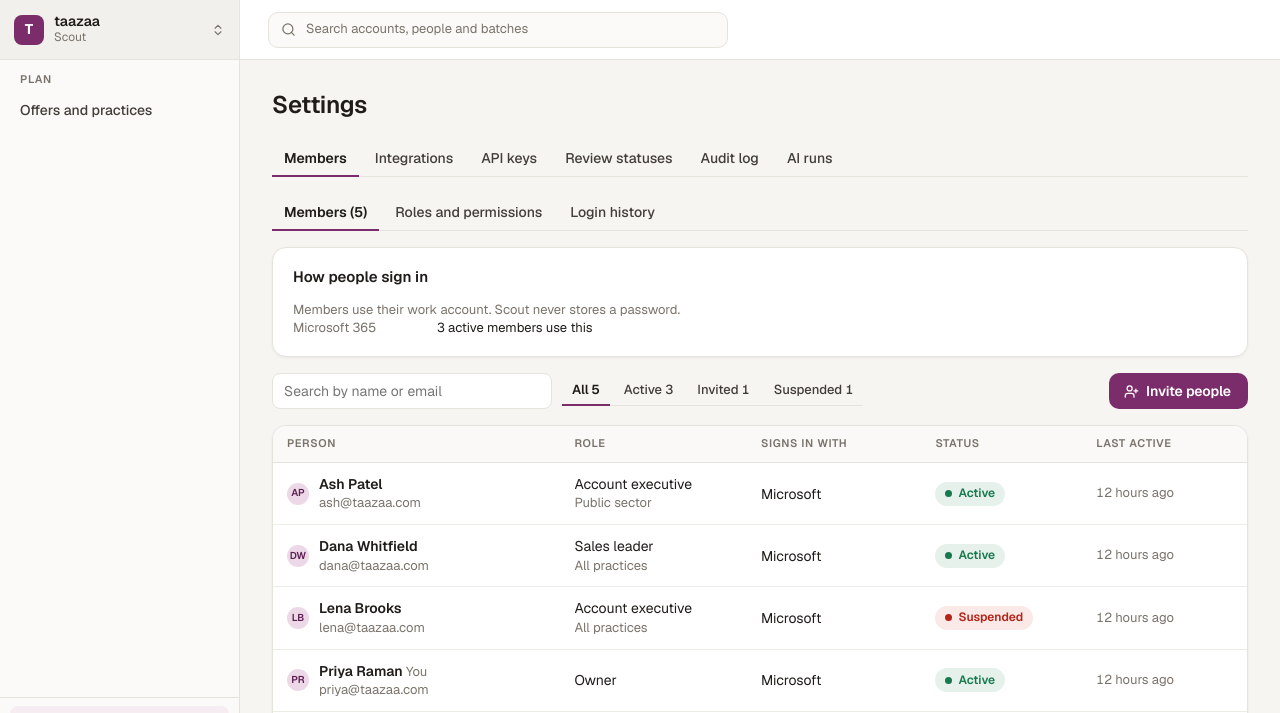
Test: invite dialog › keeps refused addresses in the form with their reasons
This screenshot has width=1280, height=713.
Click the button "Invite people" at (1179, 391), box [1109, 373, 1248, 409]
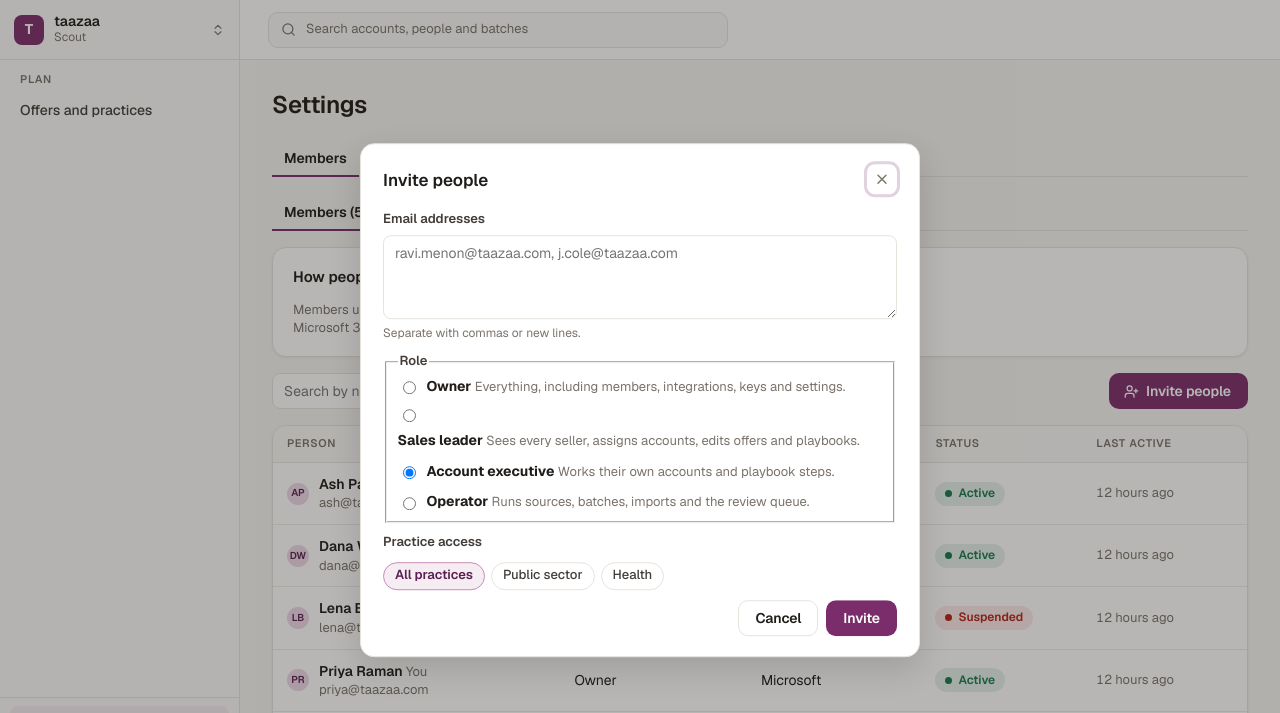
Type "dana@taazaa.com" into the text box labelled "Email addresses" at (640, 277), box [383, 235, 897, 319]
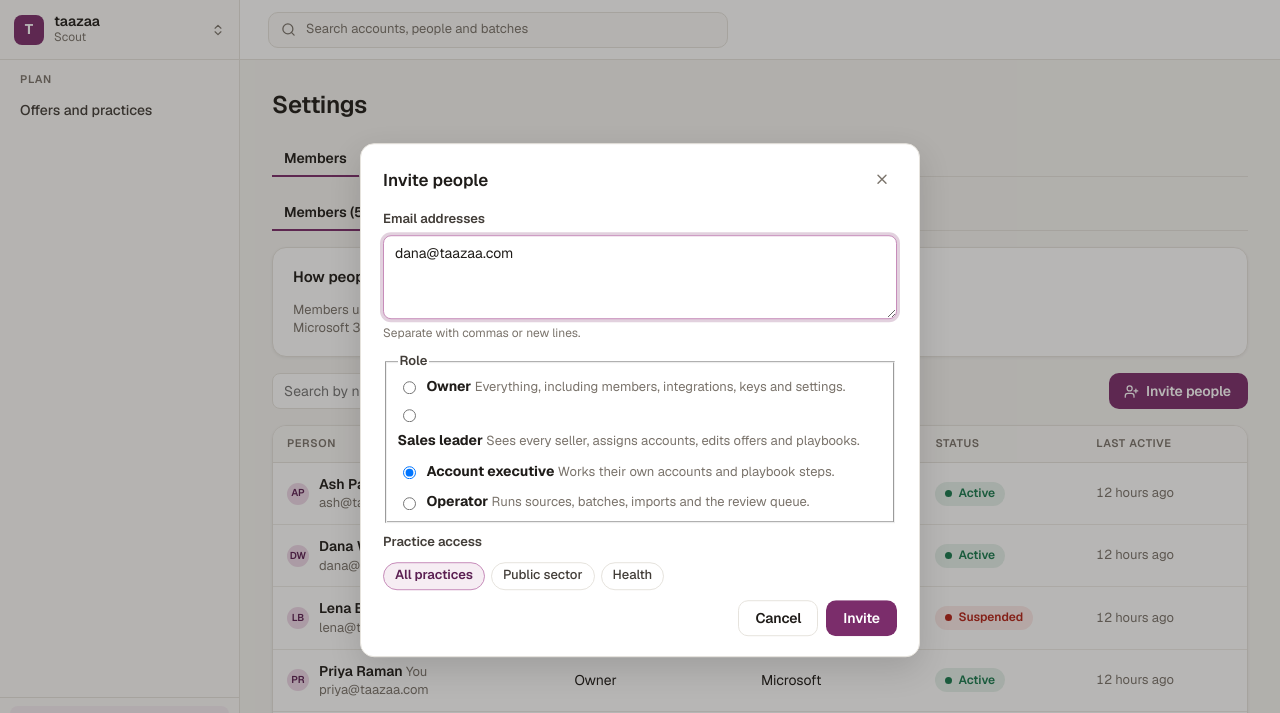
Click the button "Invite" at (862, 618), box [826, 600, 897, 636]
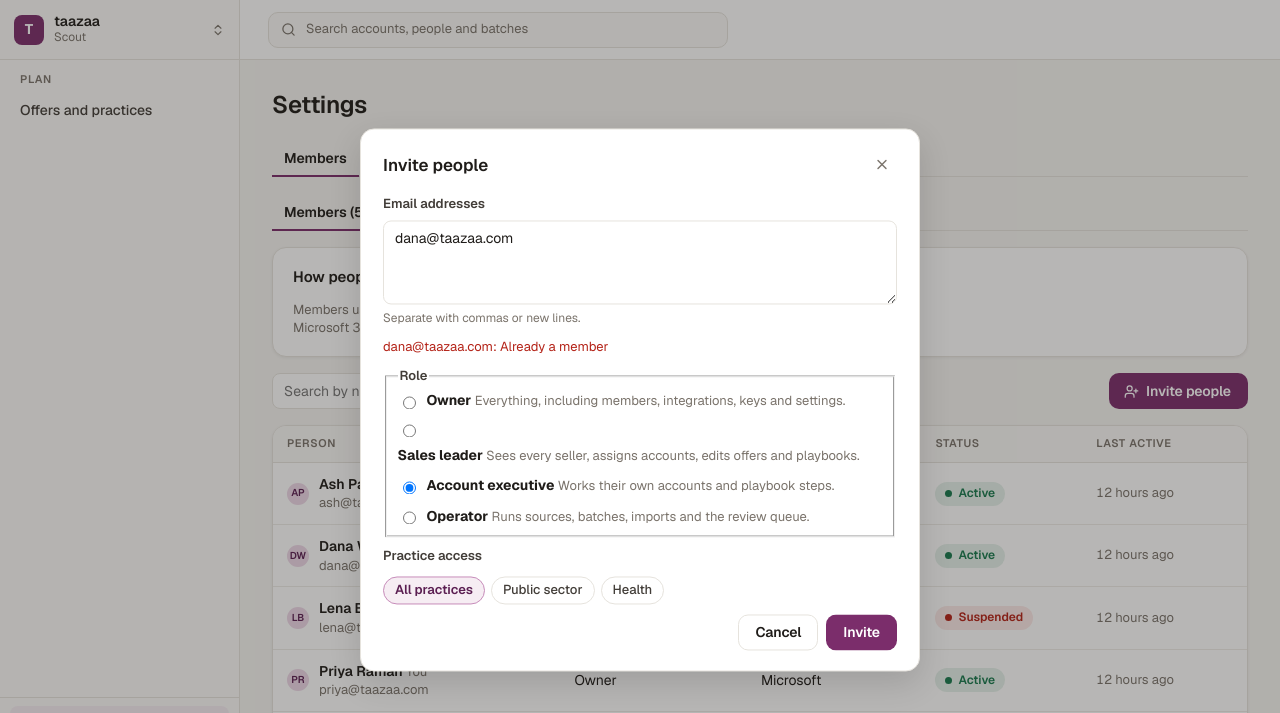
Expected: the list item "dana@taazaa.com: Already a member" is shown, [383, 339, 608, 356]
